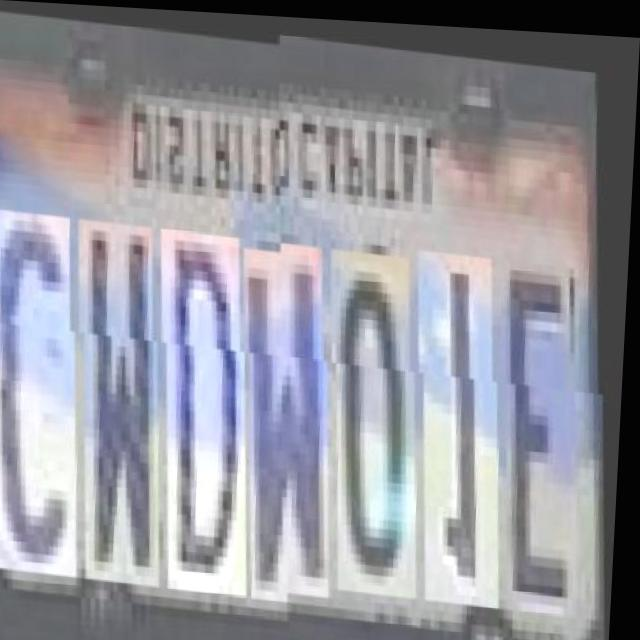1: (416, 240, 521, 596)
c: (0, 199, 98, 565)
d: (158, 215, 268, 581)
e: (500, 248, 599, 603)
m: (241, 232, 351, 589), (75, 208, 181, 574)
o: (329, 240, 437, 588)
